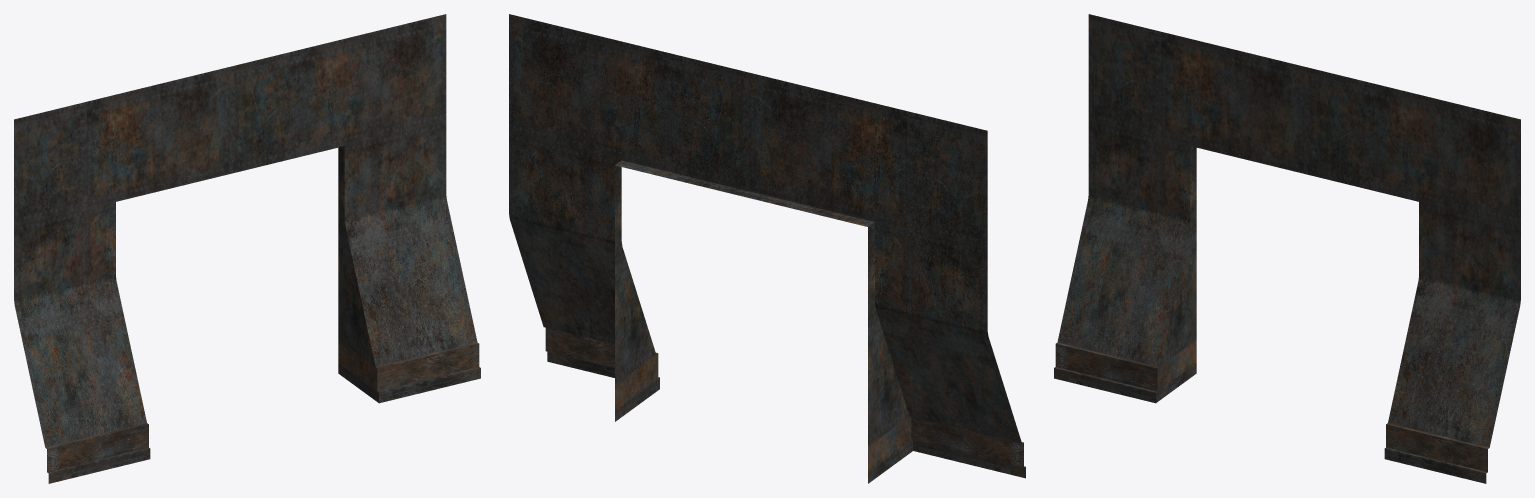
File: Basement_Corridor_C_Wall_4m_Cruved_Door.glb
3 renders of one model, left to right at view 1: azimuth 30°, elevation 25°; view 2: azimuth 150°, elevation 25°; view 3: azimuth 330°, elevation 25°, orthographic. The views are drawn at different scales.
Visible parts, largest first — view 1: Basement_Corridor_C_Wall_4m_Cruved_Door; view 2: Basement_Corridor_C_Wall_4m_Cruved_Door; view 3: Basement_Corridor_C_Wall_4m_Cruved_Door.
Part boxes in pixels (bbox=[...]): Basement_Corridor_C_Wall_4m_Cruved_Door: bbox=[14, 14, 480, 483]; Basement_Corridor_C_Wall_4m_Cruved_Door: bbox=[509, 14, 1025, 483]; Basement_Corridor_C_Wall_4m_Cruved_Door: bbox=[1054, 14, 1520, 483].
Size of the model in its own units: 4 by 3 by 0.6533.
Materials: 2 (2 with a texture image).
